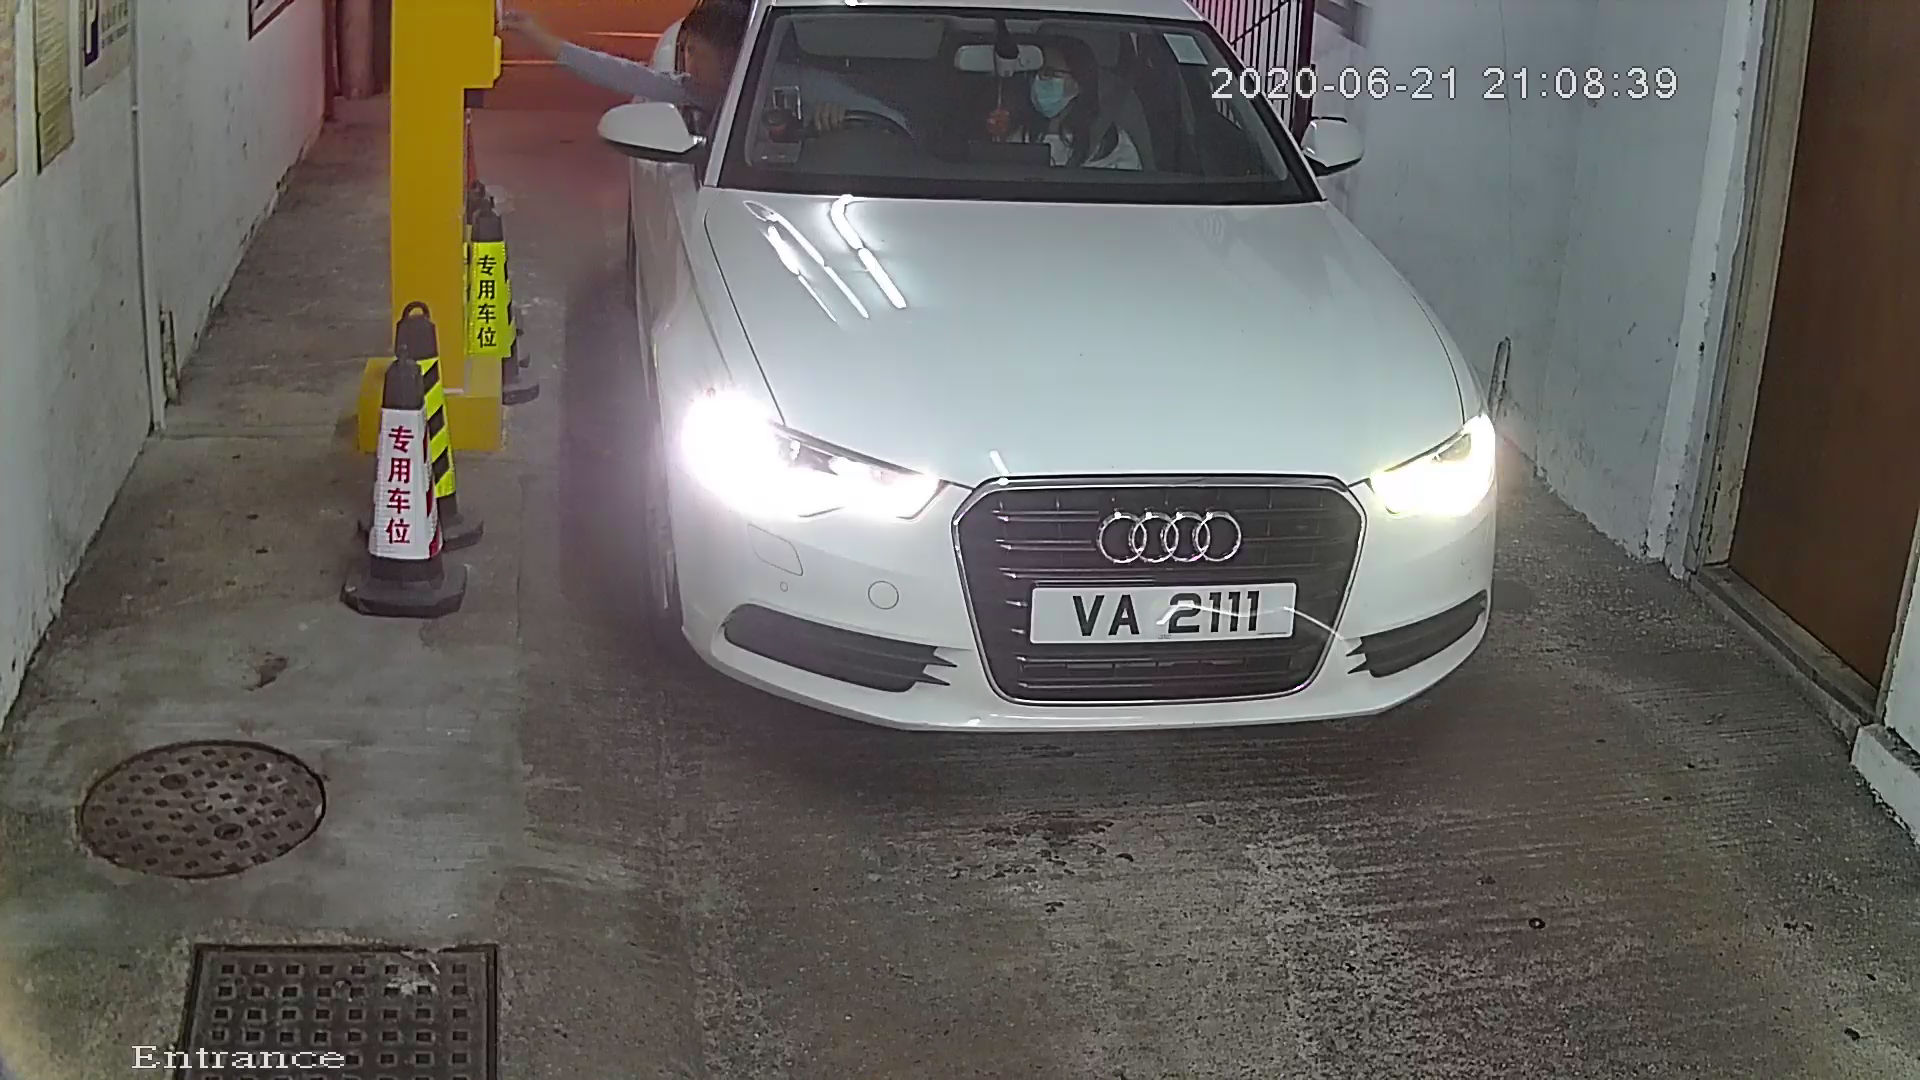privatecar: (628, 3, 1581, 793)
